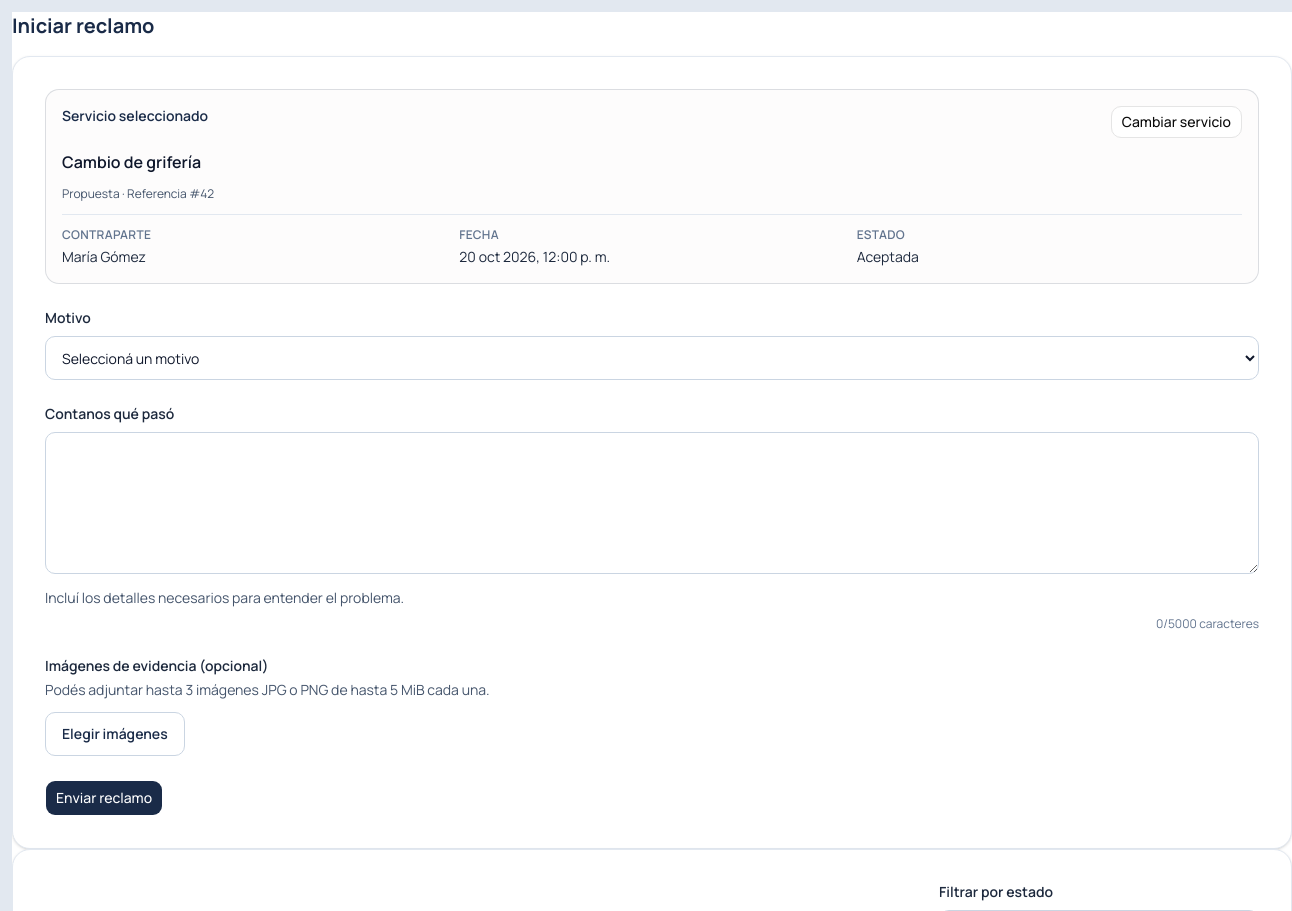
Test: ParticipantClaimsWorkspace › keeps a deep-linked service selected until the user chooses to change it
Check: the element with test id "claim-reference-context" shows "Cambio de grifería", box [62,151,201,173]
Check: the element with test id "claim-reference-context" shows "María Gómez", box [62,247,146,266]
Click the button "Cambiar servicio" at coordinates (1176, 122), box [1111,106,1242,138]
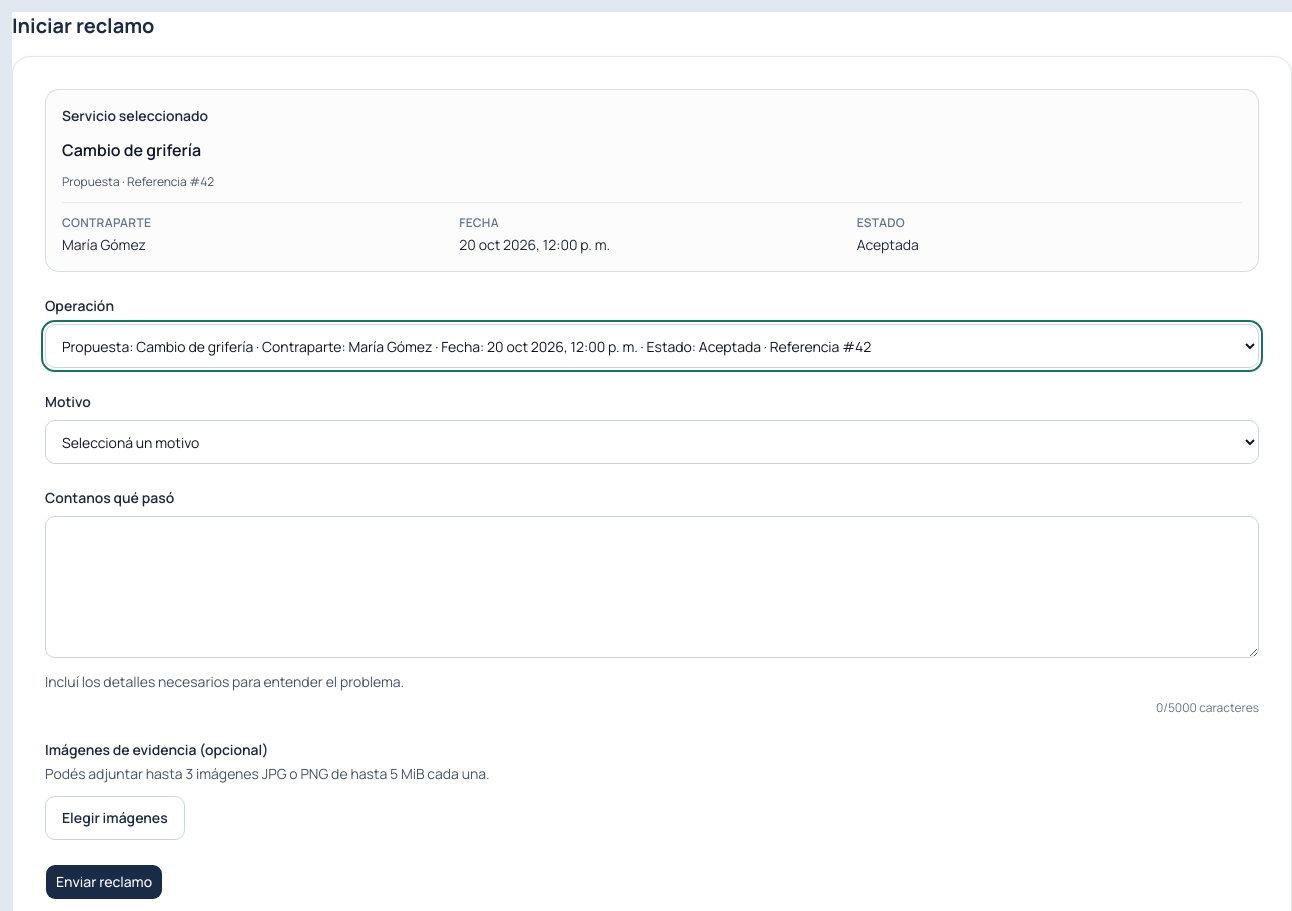
Check: the dropdown with test id "claim-reference" shows "Propuesta: Cambio de grifería · Contraparte: María Gómez · Fecha: 20 oct 2026, 1", box [45,324,1259,368]
